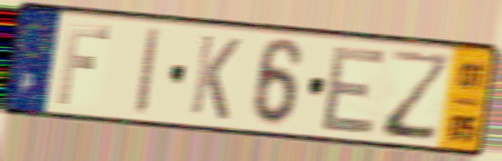6: (249, 35, 306, 131)
E: (317, 44, 390, 136)
F: (54, 20, 114, 107)
I: (132, 24, 164, 119)
K: (186, 31, 244, 124)
Z: (380, 47, 454, 145)
